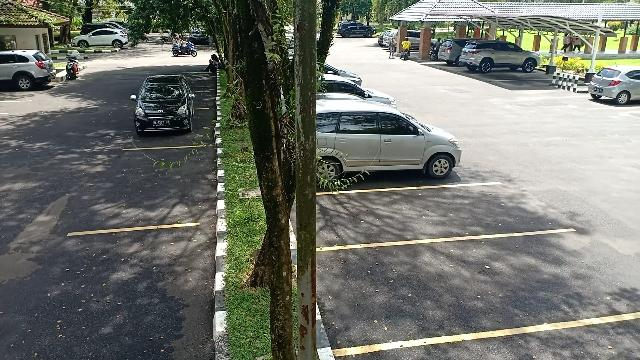empty: (324, 232, 608, 342), (319, 186, 503, 250), (104, 145, 208, 229)
occupied: (317, 112, 469, 194), (128, 93, 206, 149)
